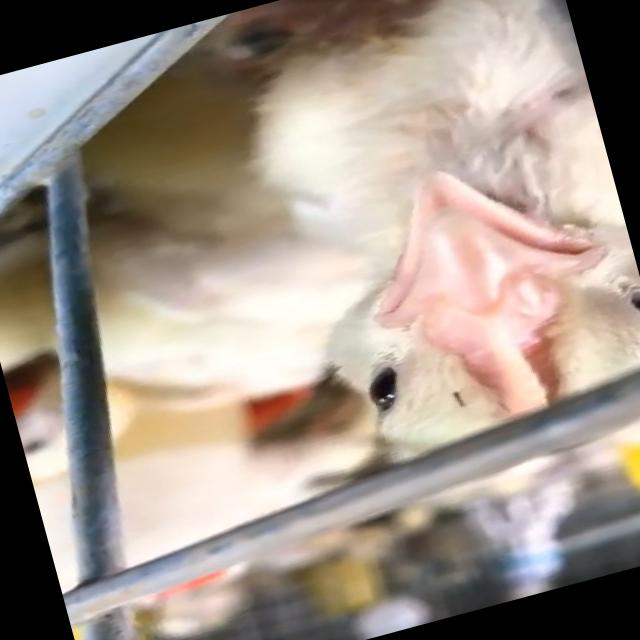Breathing: (24, 0, 640, 574)
